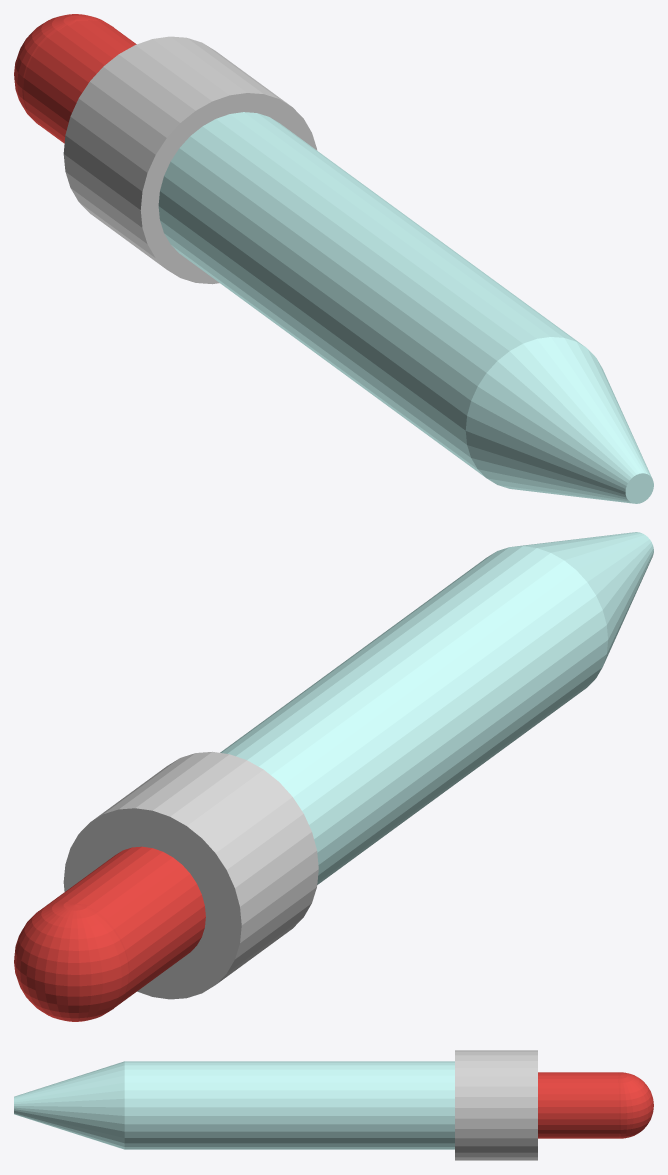
The model's file is Pipet.glb.
3 renders of one model, top to bottom at view 1: azimuth 30°, elevation 25°; view 2: azimuth 150°, elevation 25°; view 3: azimuth 270°, elevation 25°, orthographic. The views are drawn at different scales.
Visible parts, largest first — view 1: Cylinder.002, Cylinder, Sphere; view 2: Cylinder.002, Cylinder, Sphere; view 3: Cylinder.002, Cylinder, Sphere.
Boxes of the visible parts, box(x1,y1,x2,y2) form: Cylinder.002: box(158, 112, 653, 503); Cylinder: box(23, 20, 317, 284); Sphere: box(14, 14, 113, 124); Cylinder.002: box(220, 532, 653, 884); Cylinder: box(41, 751, 318, 1006); Sphere: box(14, 901, 129, 1021); Cylinder.002: box(14, 1061, 454, 1149); Cylinder: box(455, 1050, 619, 1160); Sphere: box(617, 1072, 653, 1138).
Bounding box in the file's own units: 2 × 2 × 11.58.
